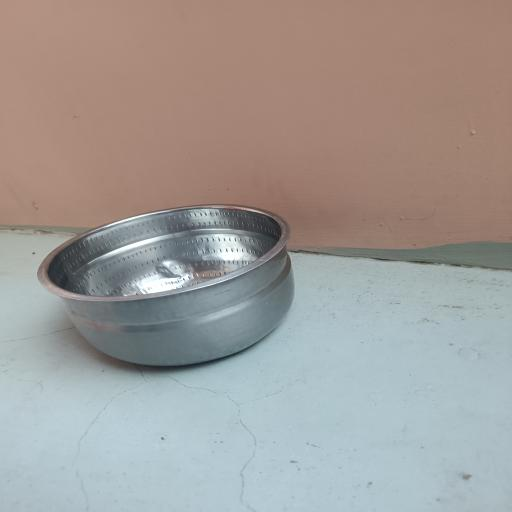vessel: (38, 205, 294, 366)
